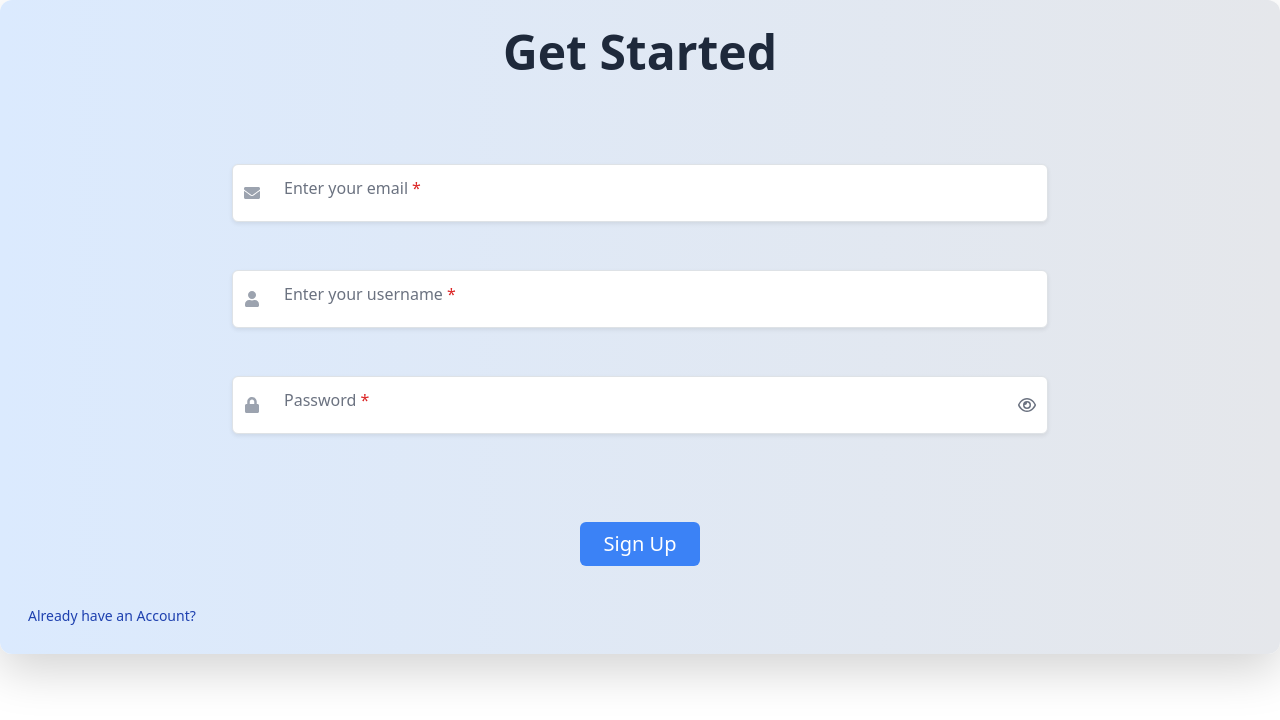
SignUpForm › transitions to account type selection after signing up
The width and height of the screenshot is (1280, 720).
Type "test@example.com" into the field with test id "enter your email".
click(640, 193); type("test@example.com")  # box [232, 164, 1048, 222]
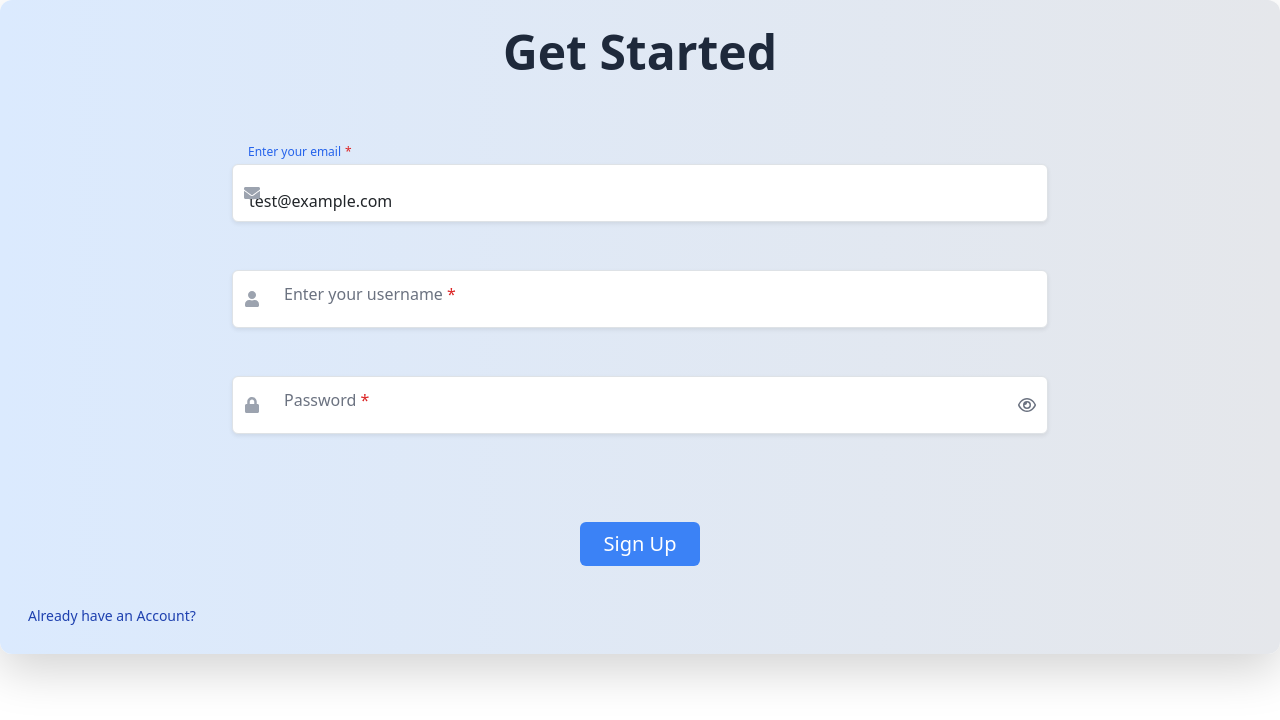
Type "testuser" into the field with test id "enter your username".
click(640, 299); type("testuser")  # box [232, 270, 1048, 328]
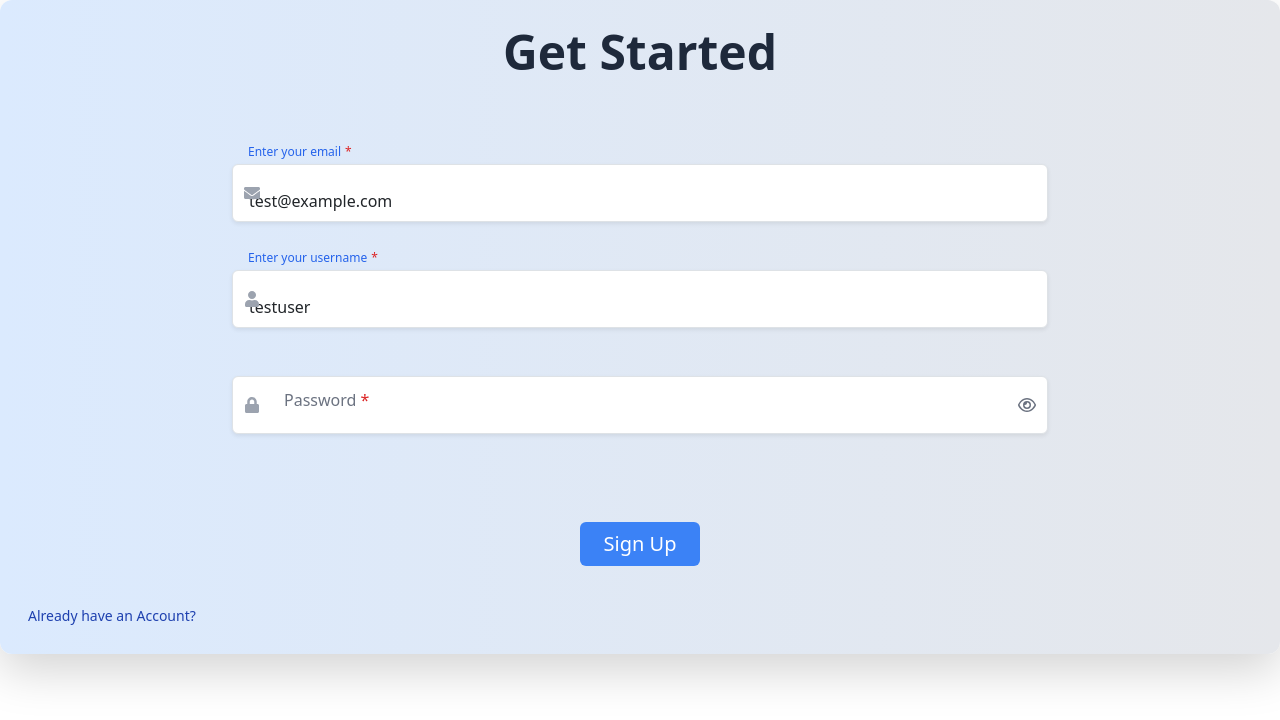
Type "password123" into the password field with test id "password".
click(640, 405); type("password123")  # box [232, 376, 1048, 434]
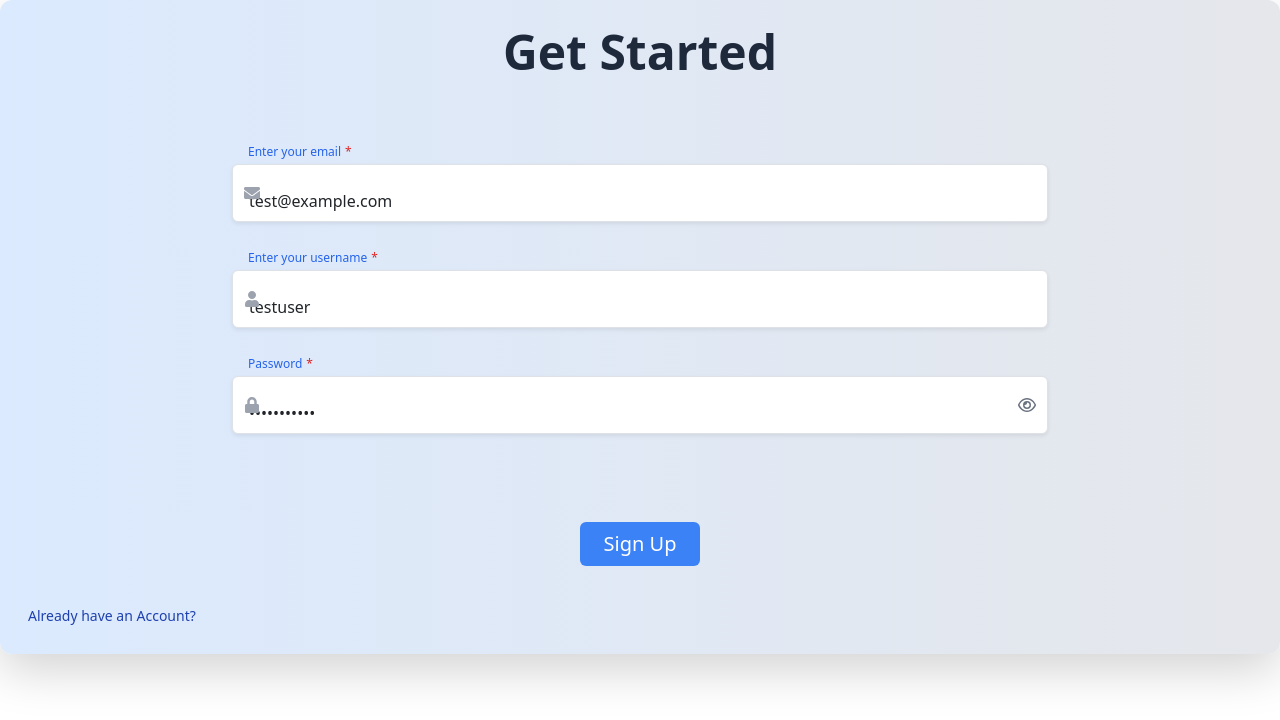
Click the button "Sign Up".
click(640, 544)  # box [580, 522, 700, 566]
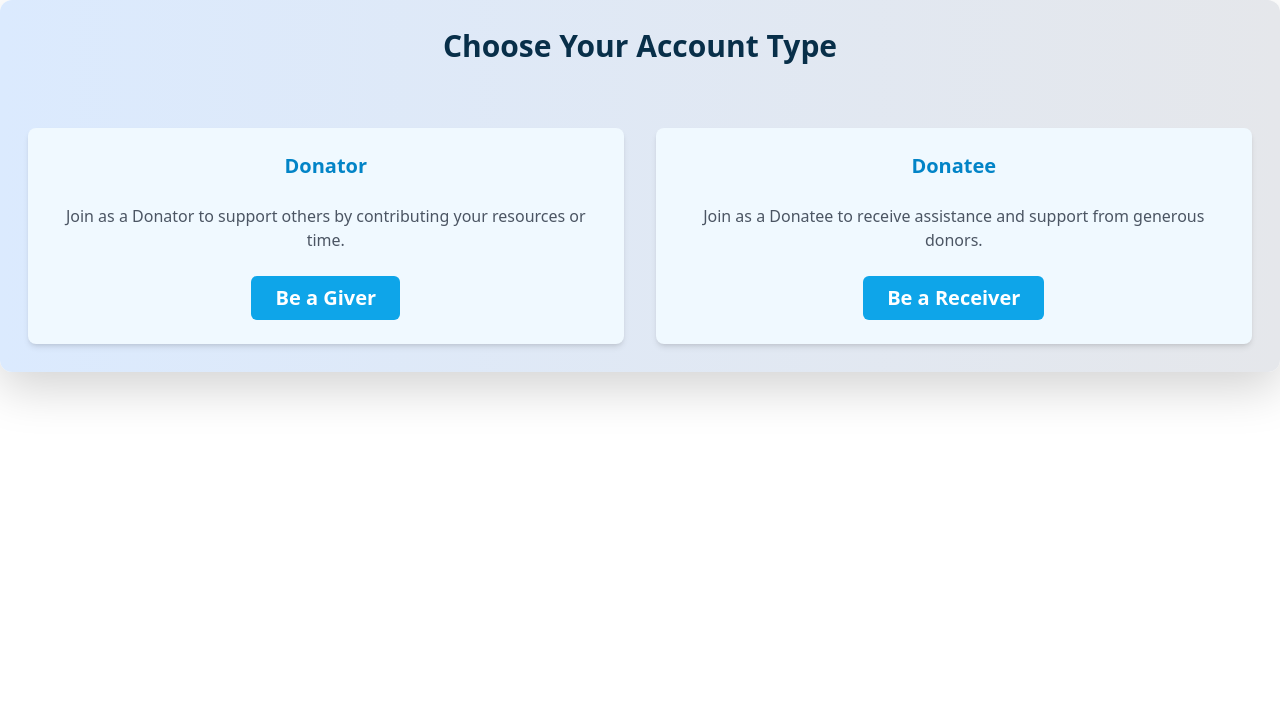
Check: the heading "Choose Your Account Type" is shown, box [443, 28, 837, 64]
